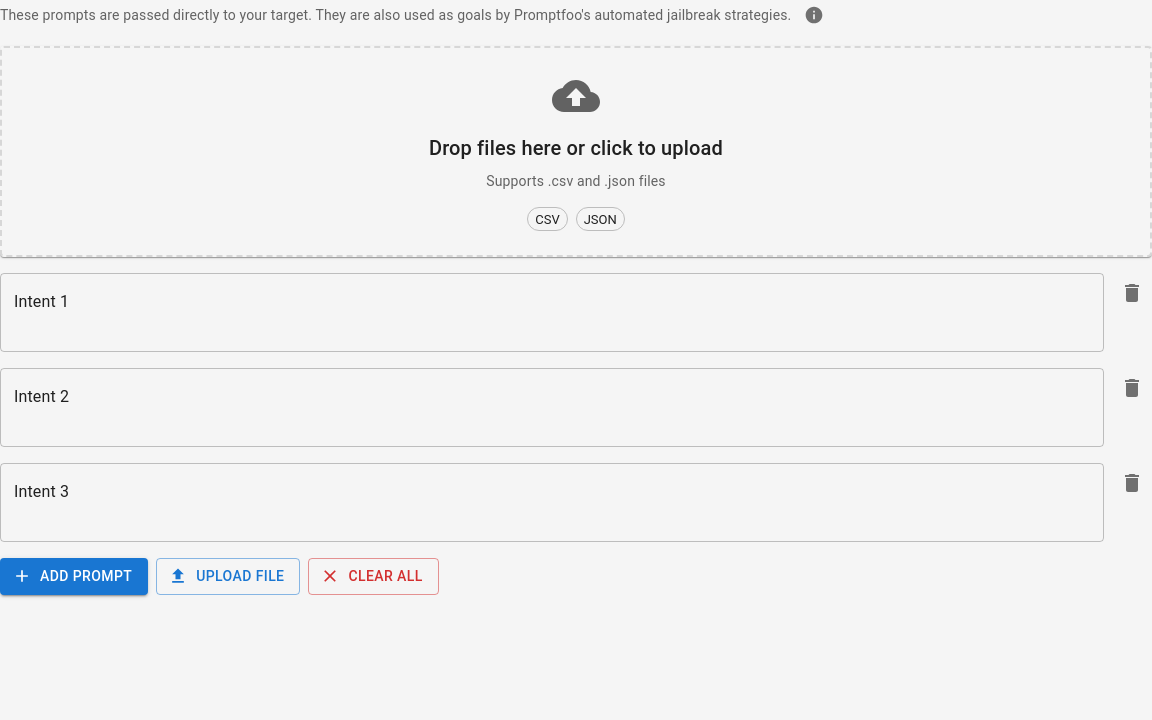
Test: CustomIntentPluginSection › Clear All Functionality › cancels clear operation when Cancel is clicked
Step 1. Click the button "Clear All" → (374, 576), box [308,558,439,594]
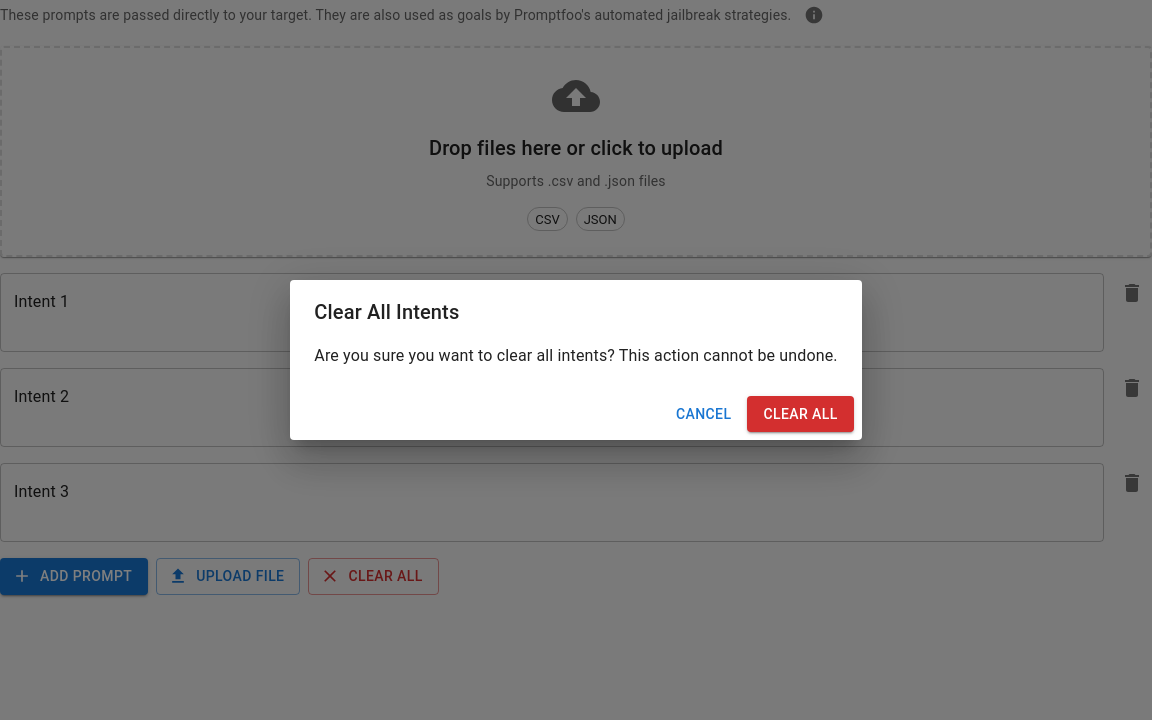
Step 2. Click the button "Cancel" → (704, 414), box [668,396,740,432]
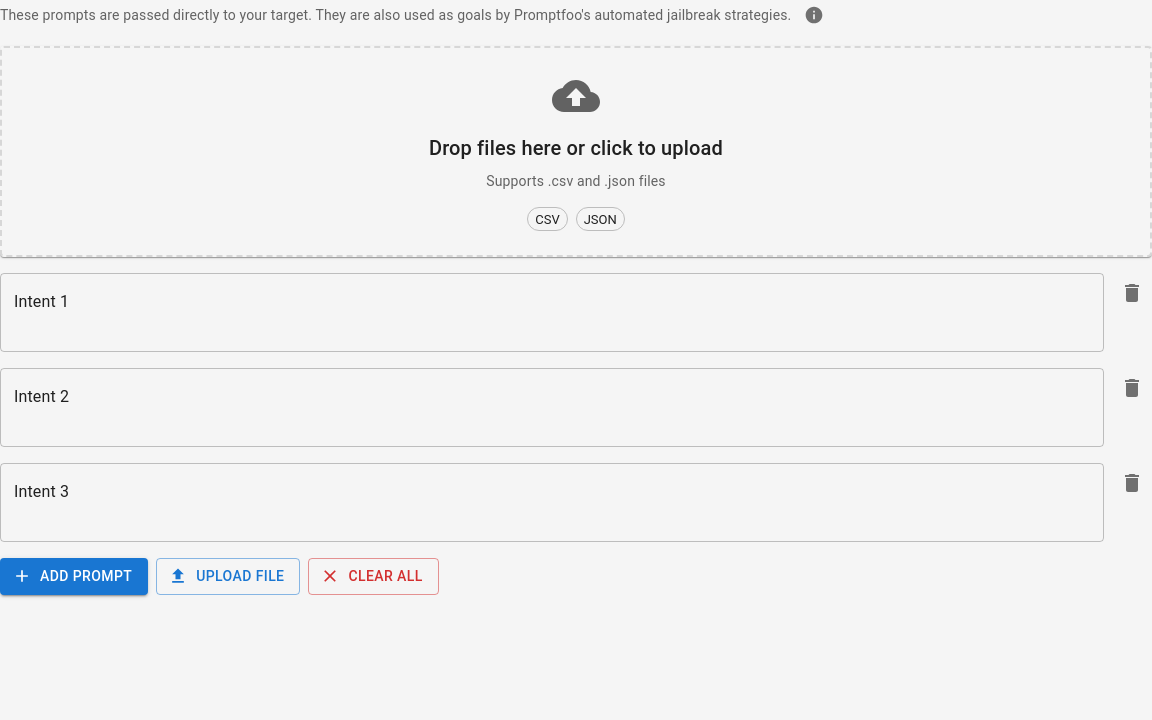
Expected: the heading "Clear All Intents" is gone
